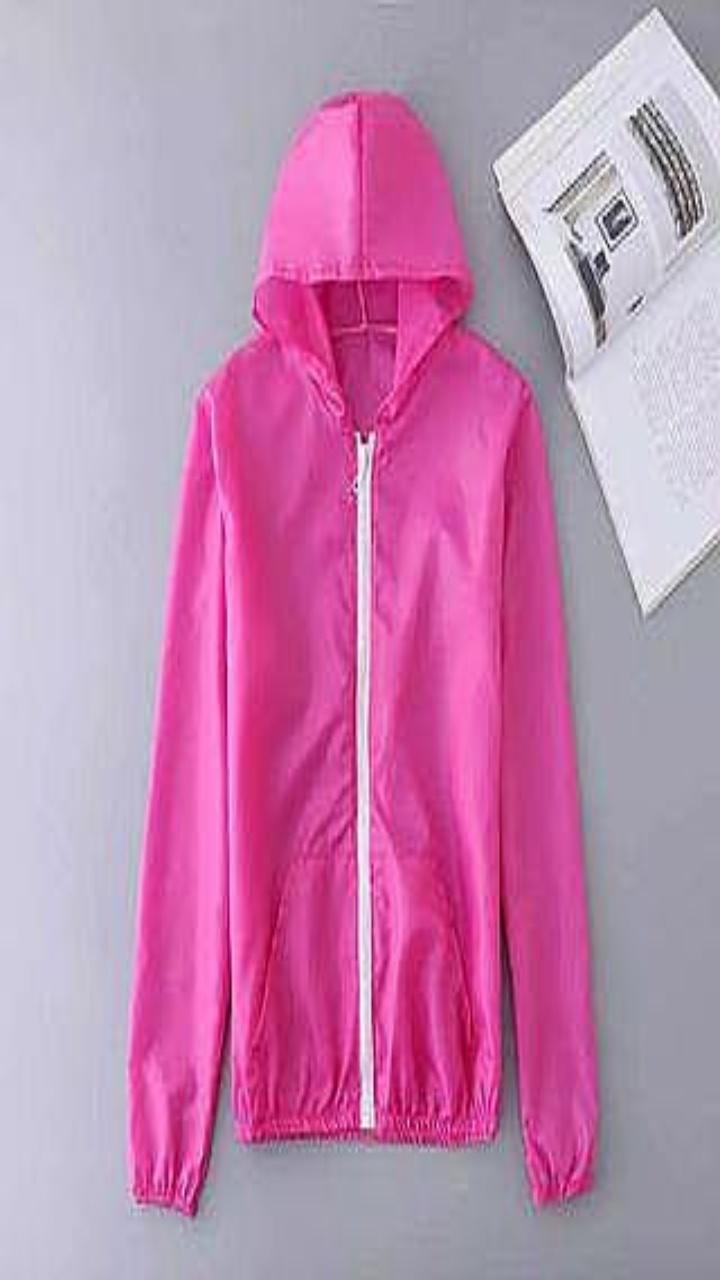Sports_Jacket: (128, 92, 596, 1213)
